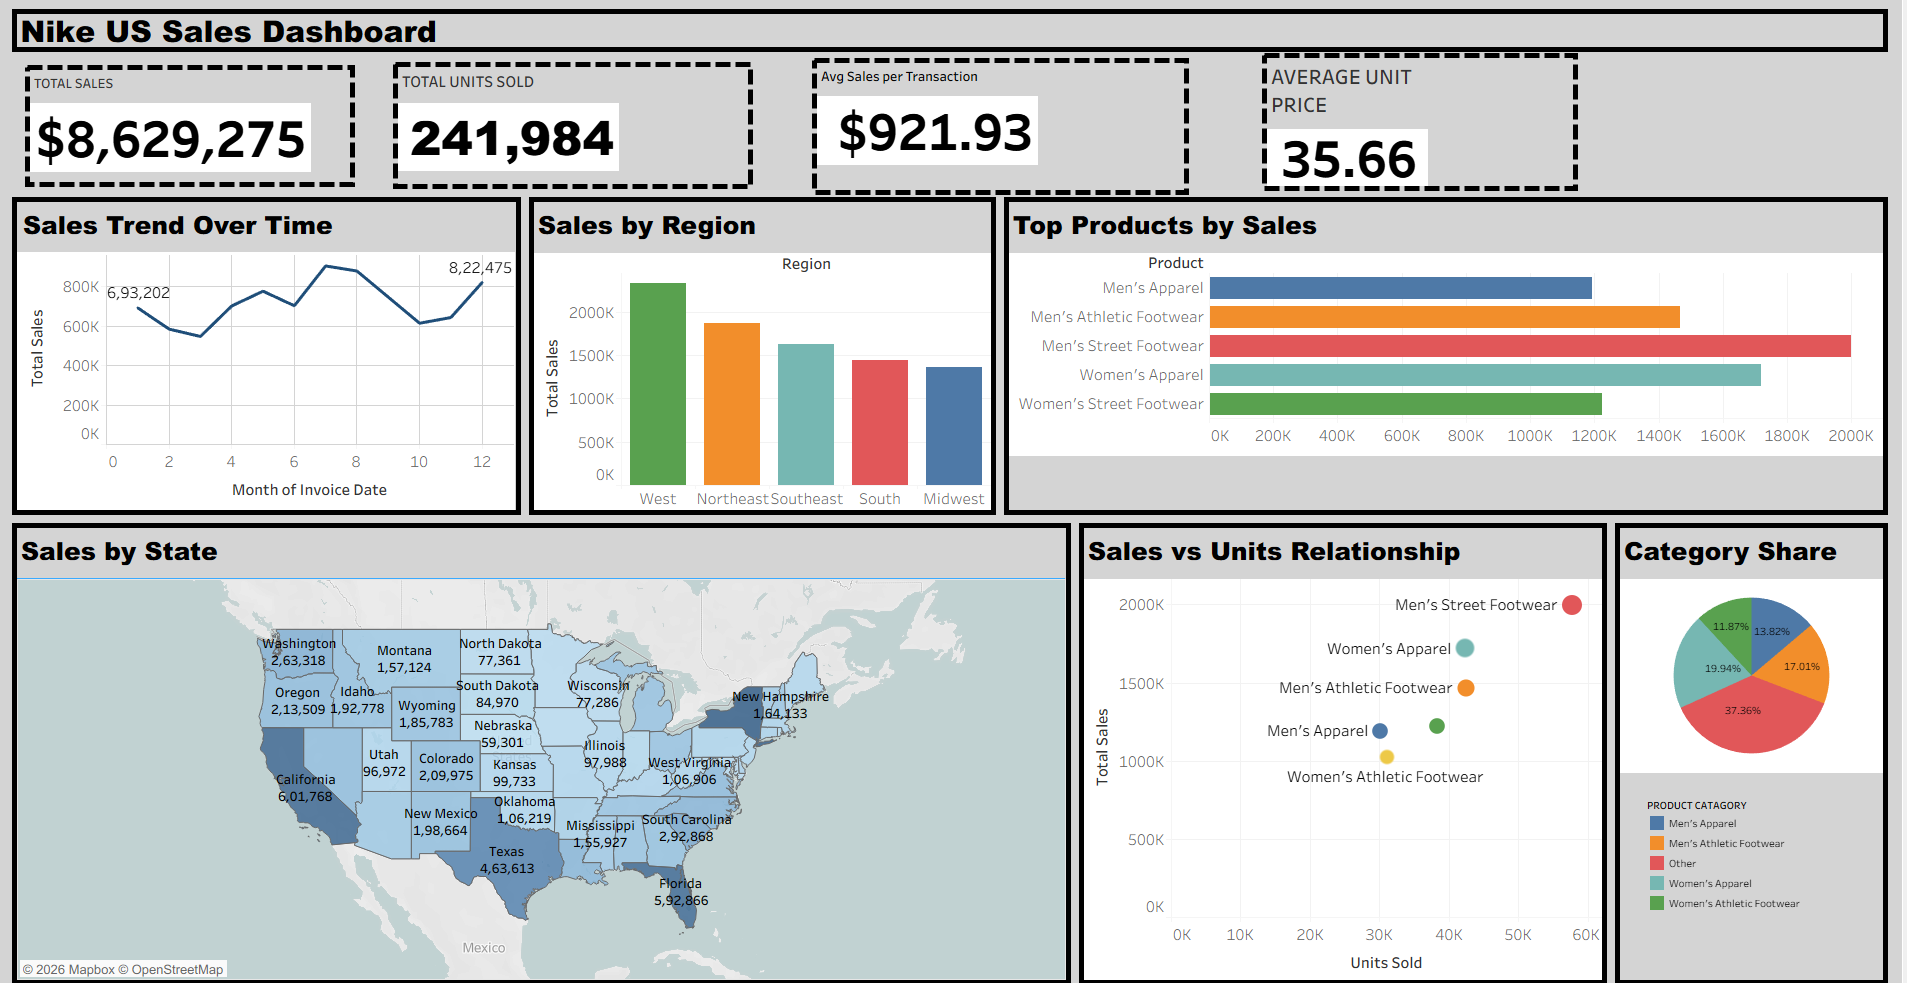

This screenshot's page, from the dashboard's own definition file:
{"tool":"tableau","page":{"name":"Dashboard 1","canvas":[1900,1000],"ordinal":0},"visuals":[{"type":"title","box":[8,8,1884,51]},{"type":"worksheet","title":"Sheet 4","mark":"Automatic","box":[1262,56,316,138]},{"type":"worksheet","title":"Sheet 3","mark":"Automatic","box":[812,61,377,137]},{"type":"worksheet","title":"Sheet 2","mark":"Automatic","box":[393,65,360,127]},{"type":"worksheet","title":"Sheet 1","mark":"Automatic","box":[25,68,330,122]},{"type":"worksheet","title":"Sheet 5","mark":"Line","rows":["Total Sales"],"cols":["Invoice Date"],"box":[8,196,517,326.1]},{"type":"worksheet","title":"Sheet 6","mark":"Bar","rows":["Total Sales"],"cols":["Region"],"box":[525,196,475,326.1]},{"type":"worksheet","title":"Sheet 7","mark":"Bar","rows":["Product"],"cols":["Total Sales"],"box":[1000,196,892,326.1]},{"type":"worksheet","title":"Sheet 8","mark":"Multipolygon","box":[8,522.1,1067,469.9]},{"type":"worksheet","title":"Sheet 9","mark":"Circle","rows":["Total Sales"],"cols":["Units Sold"],"box":[1075,522.1,536,469.9]},{"type":"worksheet","title":"Sheet 10","mark":"Pie","box":[1611,522.1,281,469.9]},{"type":"legend","title":"Sheet 10","param":"[federated.0p5j7a80kux6c31bru5z118nf1fg].[none:Calculation_1228730241478659:nk]","box":[1647,801,217,148]}]}

Visuals, with their boxes in screenshot pixels (x1, y1, x2, y2), scaled from the page's 1900x1000 canvas onto the 1907x983 screenshot:
title: Rect(8, 8, 1899, 58)
"Sheet 4" worksheet: Rect(1267, 55, 1584, 191)
"Sheet 3" worksheet: Rect(815, 60, 1193, 195)
"Sheet 2" worksheet: Rect(394, 64, 756, 189)
"Sheet 1" worksheet: Rect(25, 67, 356, 187)
"Sheet 5" worksheet (Line marks): Rect(8, 193, 527, 513)
"Sheet 6" worksheet (Bar marks): Rect(527, 193, 1004, 513)
"Sheet 7" worksheet (Bar marks): Rect(1004, 193, 1899, 513)
"Sheet 8" worksheet (Multipolygon marks): Rect(8, 513, 1079, 975)
"Sheet 9" worksheet (Circle marks): Rect(1079, 513, 1617, 975)
"Sheet 10" worksheet (Pie marks): Rect(1617, 513, 1899, 975)
"Sheet 10" legend: Rect(1653, 787, 1871, 933)
